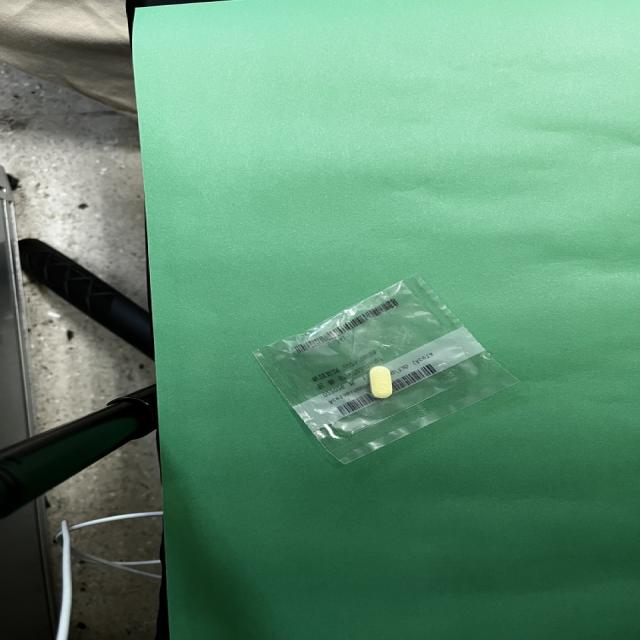Other Objects: (253, 276, 517, 464)
